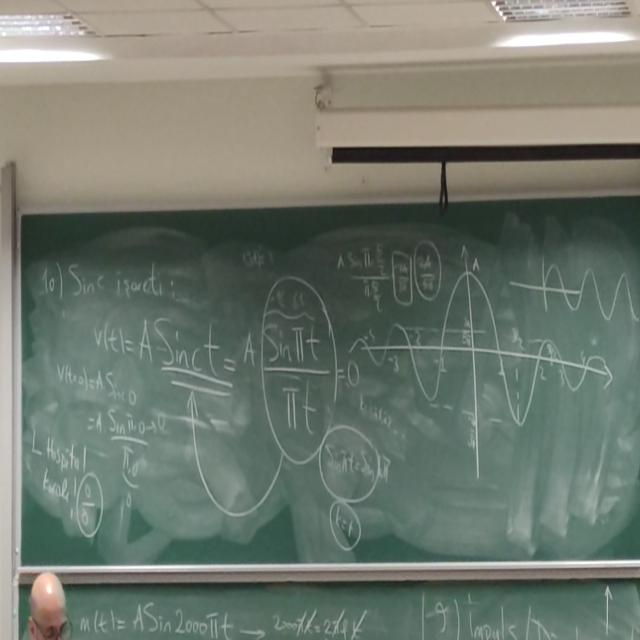image: (345, 244, 625, 478)
math: (87, 303, 261, 366), (30, 416, 100, 546), (266, 308, 333, 434), (94, 406, 170, 512), (338, 237, 438, 300), (49, 352, 135, 408), (324, 435, 393, 502)
text: (70, 254, 168, 312)
